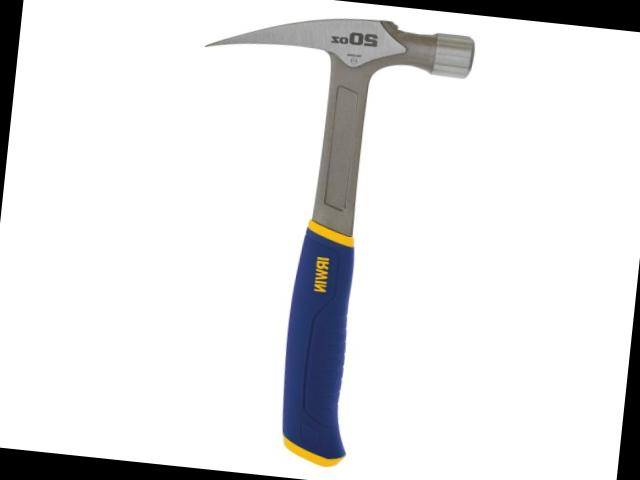hammer: (161, 1, 478, 480)
